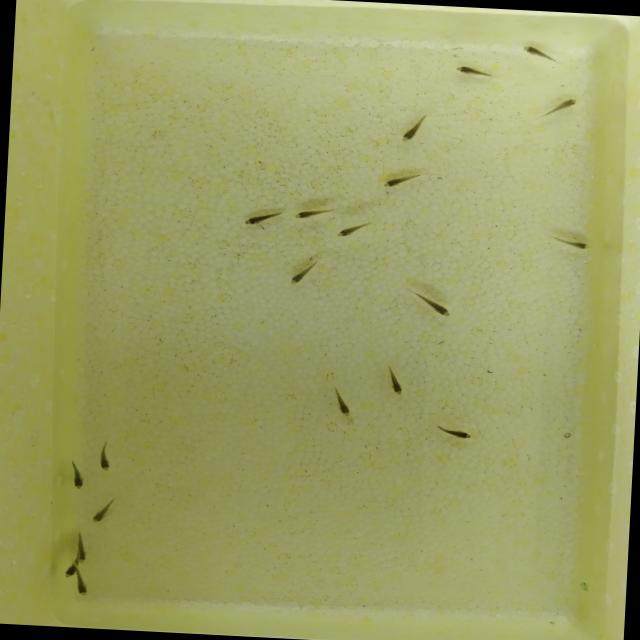fingerling: (403, 288, 457, 322), (393, 107, 436, 148), (380, 164, 430, 197), (286, 253, 324, 293), (536, 94, 582, 125), (430, 421, 478, 447), (379, 360, 409, 400), (86, 494, 119, 530), (326, 383, 356, 422), (331, 218, 381, 241), (238, 206, 282, 232), (539, 232, 595, 252), (518, 44, 566, 67), (61, 459, 90, 496), (287, 202, 333, 223), (90, 438, 116, 474), (452, 64, 502, 82), (74, 568, 98, 600), (70, 532, 94, 563), (63, 564, 75, 580)
